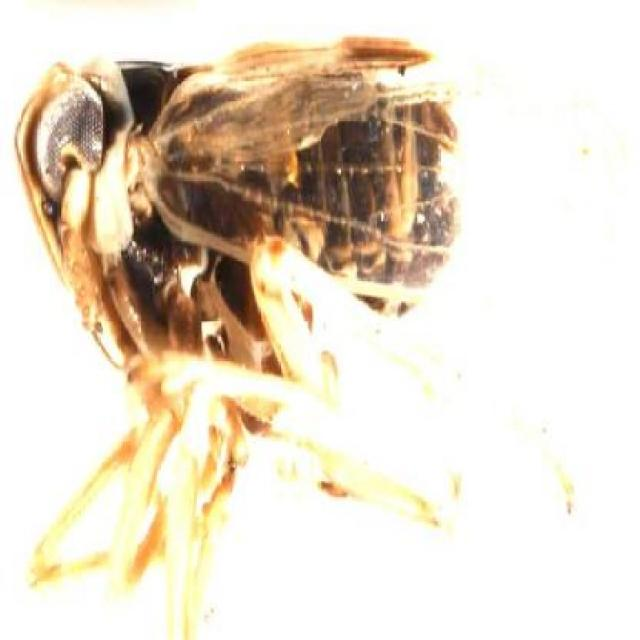brown-planthopper: (20, 29, 569, 469)
